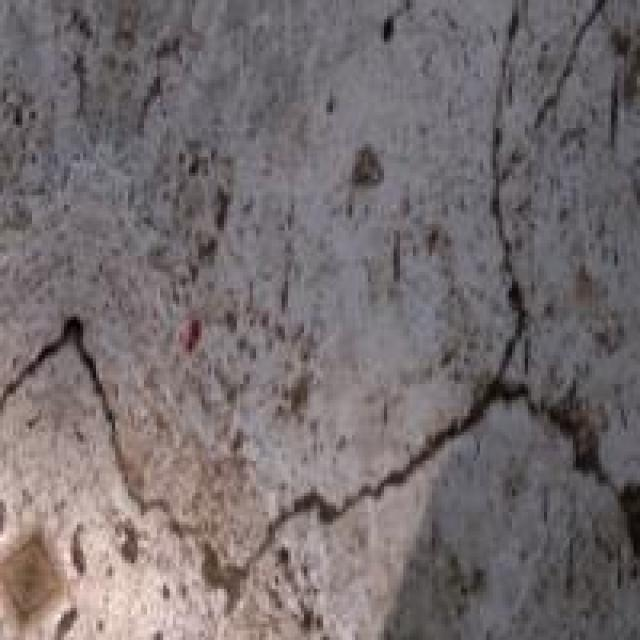crack: (0, 86, 634, 637)
